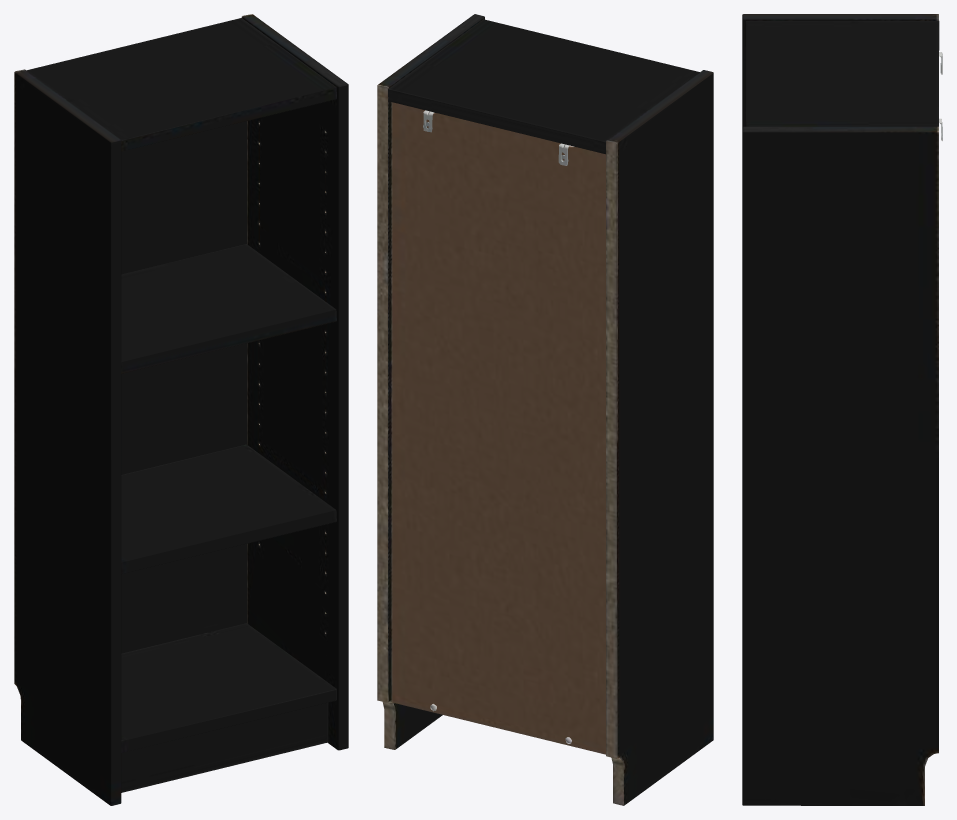
File: 07 - BILLY Bookcase - black oak effect 40x28x106 cm.glb
The picture shows the model from 3 angles, left to right: view 1: azimuth 30°, elevation 25°; view 2: azimuth 150°, elevation 25°; view 3: azimuth 270°, elevation 25°; orthographic projection.
Visible parts, largest first — view 1: ASY_ART_30477331_S01_NV01; view 2: ASY_ART_30477331_S01_NV01; view 3: ASY_ART_30477331_S01_NV01.
Boxes of the visible parts, <box> form: ASY_ART_30477331_S01_NV01: <box>14,14,348,805</box>; ASY_ART_30477331_S01_NV01: <box>377,14,713,805</box>; ASY_ART_30477331_S01_NV01: <box>742,14,942,805</box>.
Bounding box in the file's own units: 0.398 × 1.06 × 0.285.
Materials: 1 (1 with a texture image).
